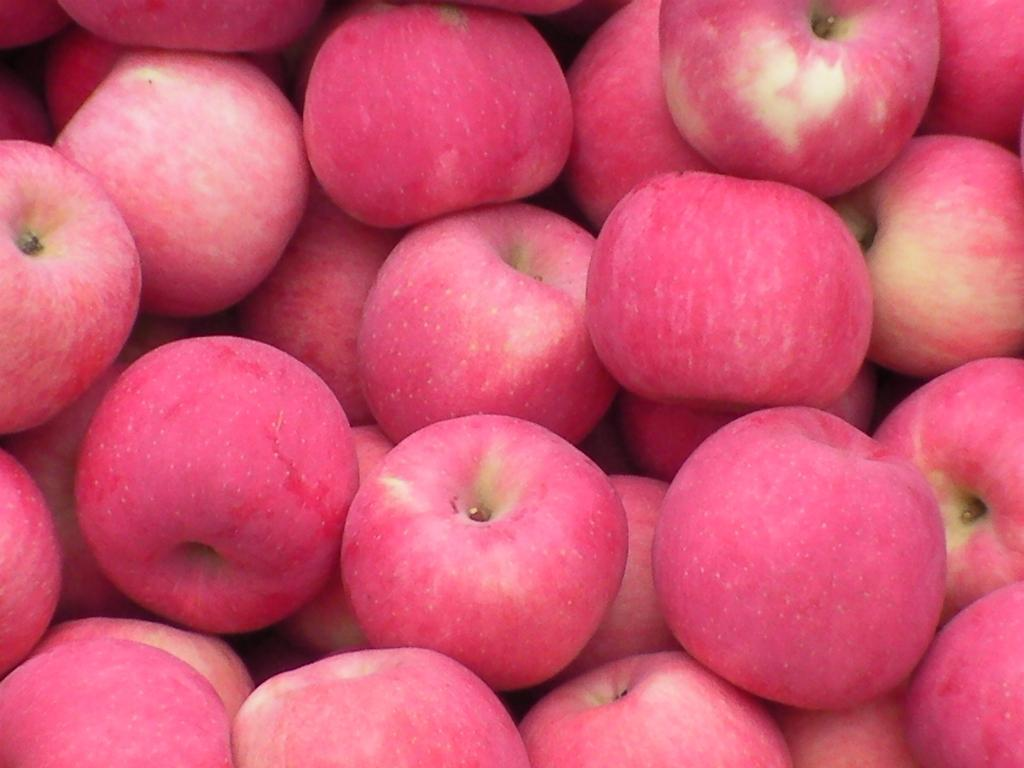apple: (641, 406, 942, 712), (60, 341, 359, 641), (336, 417, 622, 689), (576, 173, 874, 434), (36, 42, 311, 321), (296, 3, 569, 229), (359, 203, 606, 448), (662, 1, 941, 198), (1, 146, 143, 440), (848, 136, 1021, 377), (2, 617, 245, 763), (230, 647, 527, 765), (563, 5, 716, 228), (904, 582, 1024, 767), (925, 2, 1020, 150)
